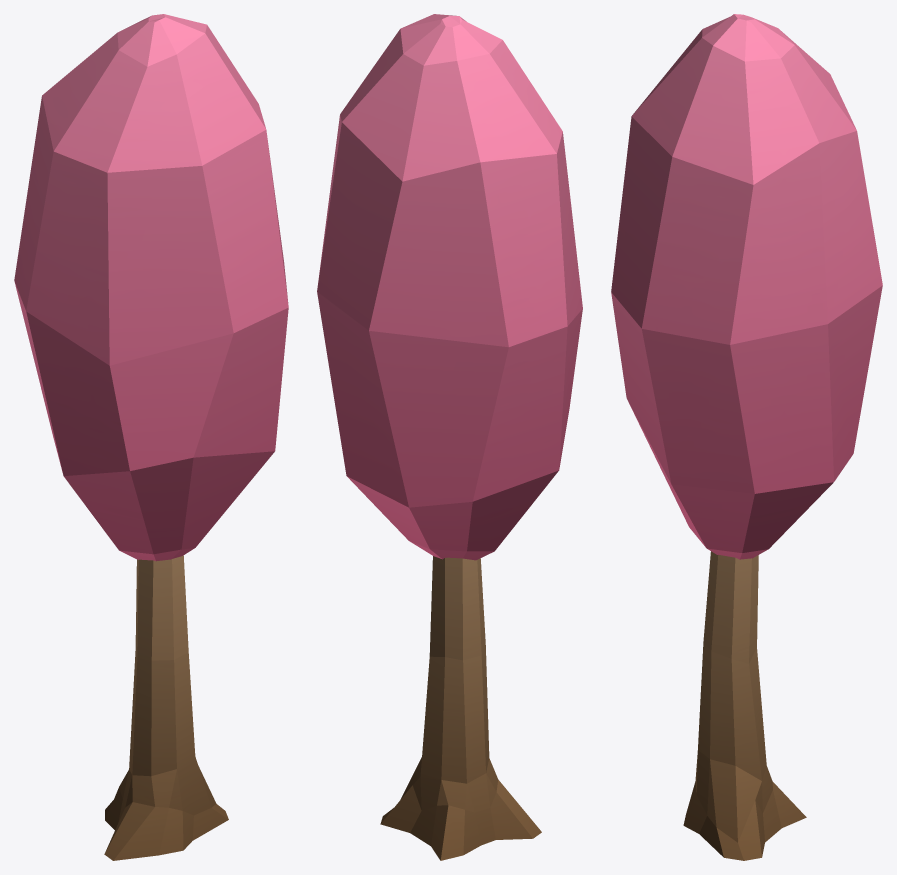
The model's file is tree_poplar_pink.fbx.
3 views of the same model, side by side, from view 1: azimuth 30°, elevation 25°; view 2: azimuth 150°, elevation 25°; view 3: azimuth 270°, elevation 25° (orthographic).
Parts seen in each view (by area): view 1: tree_poplar_pink; view 2: tree_poplar_pink; view 3: tree_poplar_pink.
Part boxes in pixels (x1,y1,x2,y2): tree_poplar_pink: (14,14,288,860); tree_poplar_pink: (317,14,582,860); tree_poplar_pink: (611,14,882,860).
Size of the model in its own units: 2.95 by 9.4 by 2.85.
Materials: 1 (1 with a texture image).
